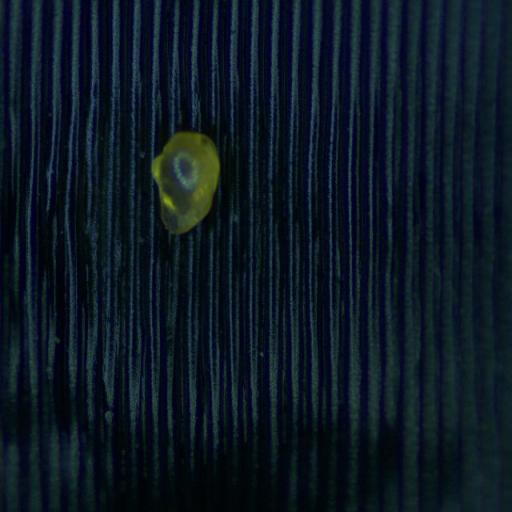mineral: (152, 131, 219, 233)
